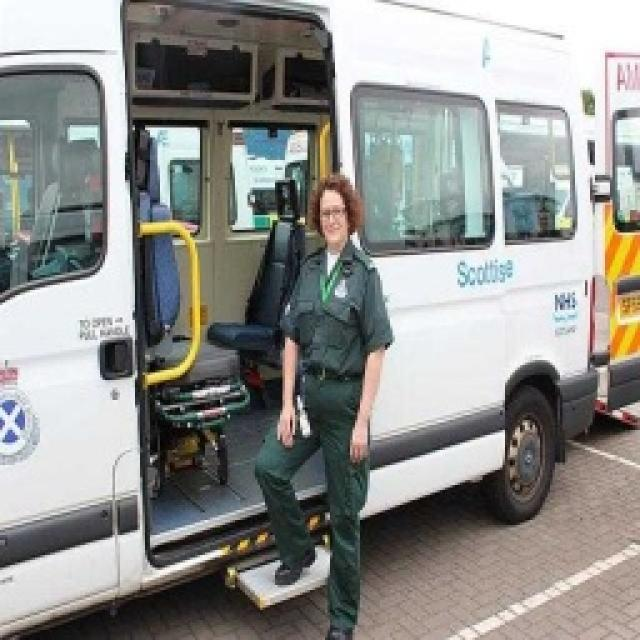emergency-vehicle: (6, 4, 588, 631)
